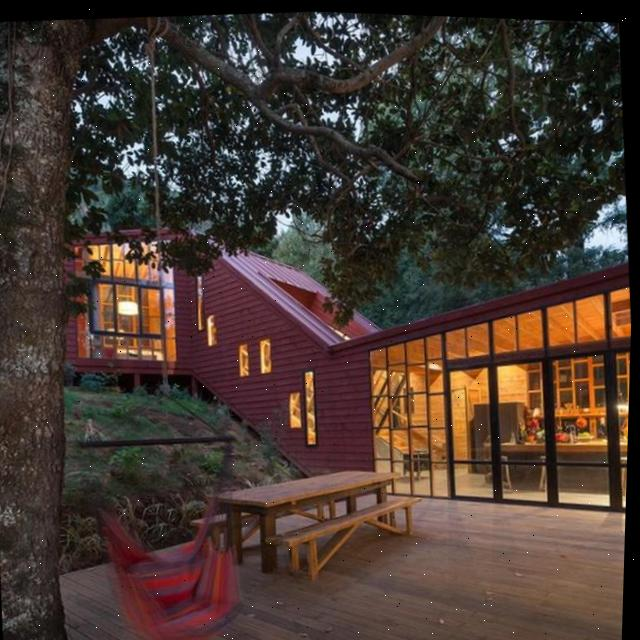building: (52, 188, 635, 553)
